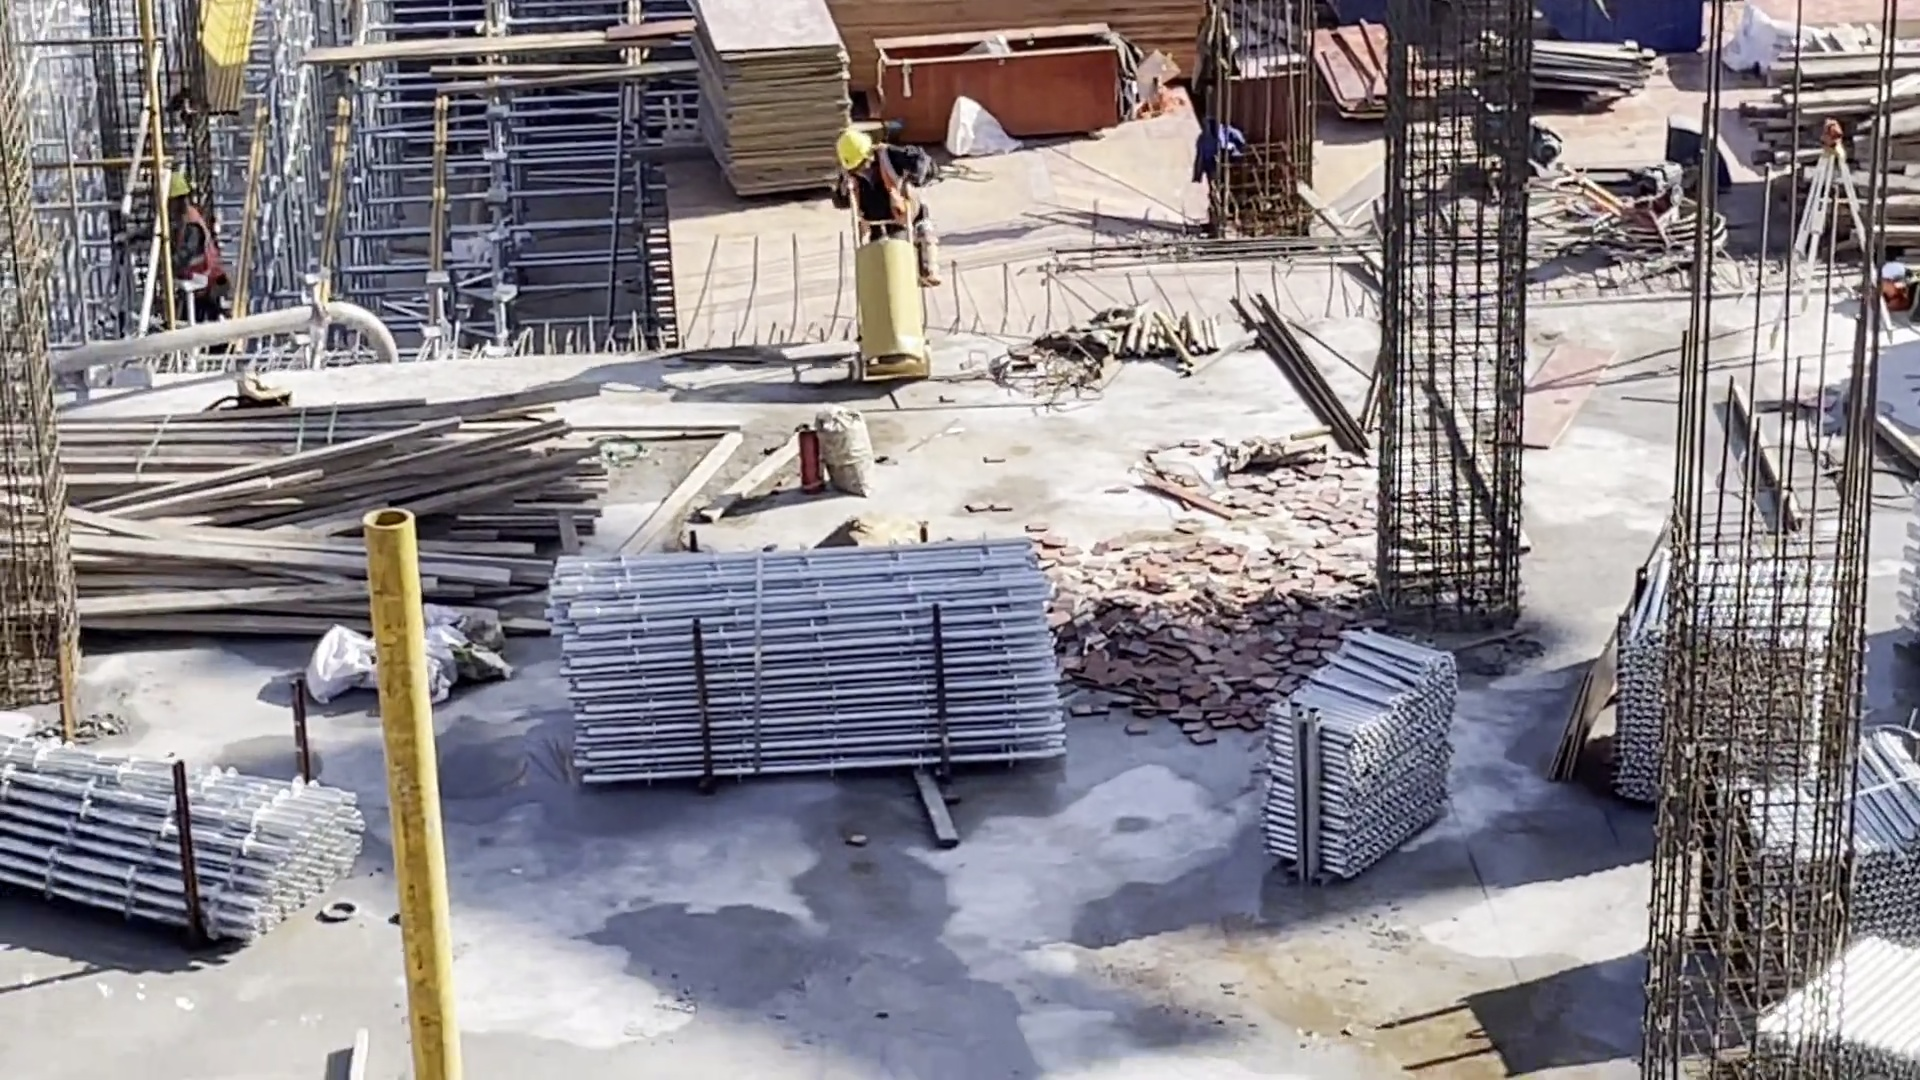board: (688, 3, 852, 209)
helmet: (841, 132, 878, 171), (169, 172, 195, 203)
person: (840, 124, 958, 241), (170, 174, 229, 312)
scaffold: (1615, 501, 1920, 1080), (544, 530, 1074, 786), (4, 724, 369, 948), (1262, 623, 1451, 886)
vest: (850, 151, 921, 230), (181, 209, 222, 288)
